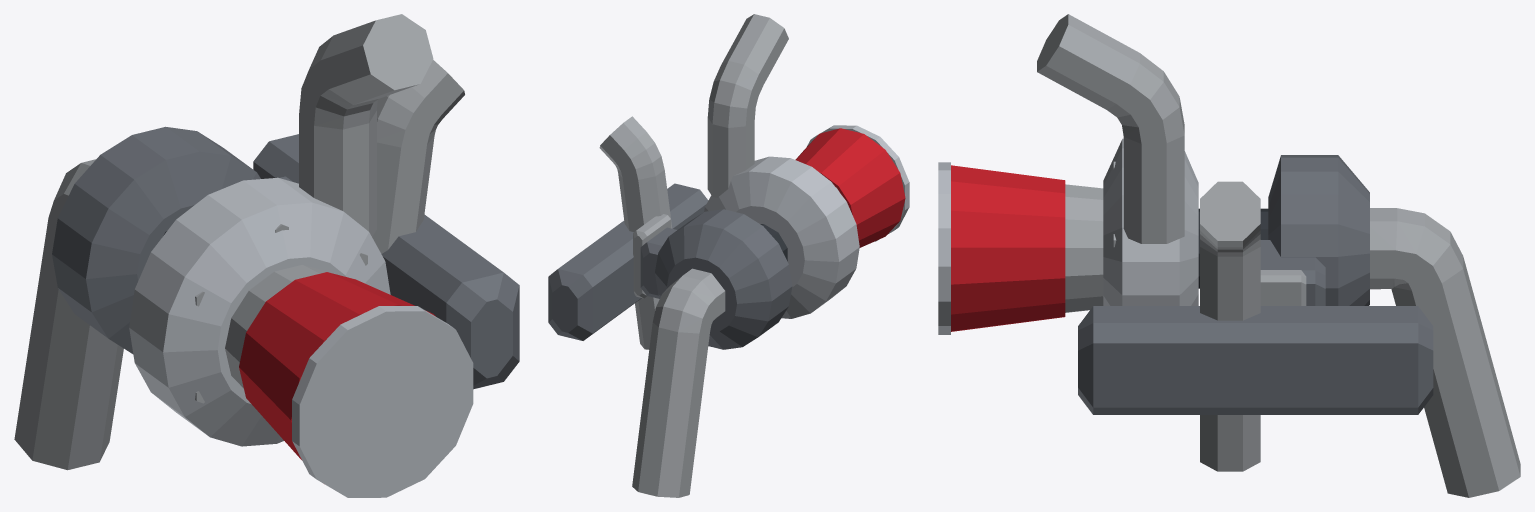
The model's file is hana_roadster.glb.
The picture shows the model from 3 angles, left to right: view 1: azimuth 30°, elevation 25°; view 2: azimuth 150°, elevation 25°; view 3: azimuth 270°, elevation 25°; orthographic projection. The views are drawn at different scales.
Parts seen in each view (by area): view 1: model; view 2: model; view 3: model.
Part boxes in pixels (box(x1,y1,x2,y2)): model: box(14, 14, 519, 497); model: box(548, 14, 909, 497); model: box(938, 14, 1520, 497).
Size of the model in its own units: 0.2745 by 0.435 by 0.4587.
Materials: 2 (1 with a texture image).
